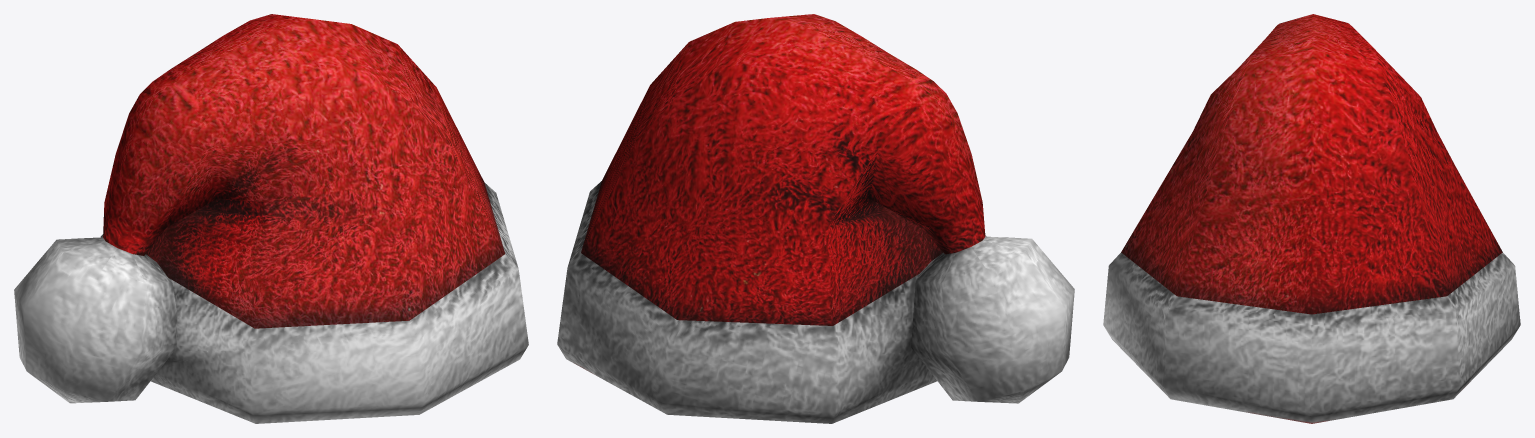
The model's file is Santa-Hat.fbx.
3 renders of one model, left to right at view 1: azimuth 30°, elevation 25°; view 2: azimuth 150°, elevation 25°; view 3: azimuth 270°, elevation 25°, orthographic. The views are drawn at different scales.
Parts seen in each view (by area): view 1: Santa-Hat; view 2: Santa-Hat; view 3: Santa-Hat.
Part boxes in pixels (x1,y1,x2,y2): Santa-Hat: [14, 14, 528, 423]; Santa-Hat: [557, 14, 1074, 423]; Santa-Hat: [1103, 14, 1520, 423].
Size of the model in its own units: 6.17 by 3.96 by 5.
